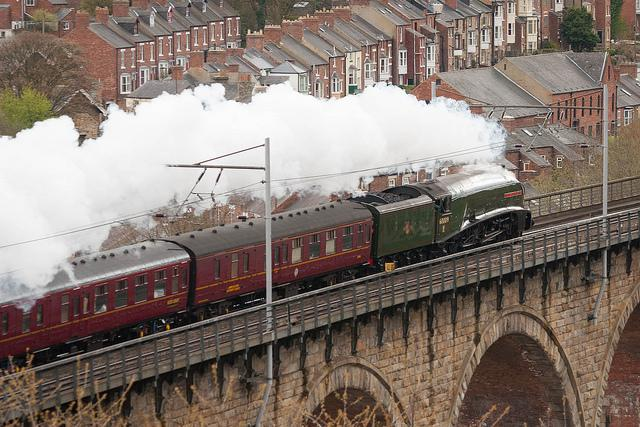Train: (0, 163, 538, 376)
